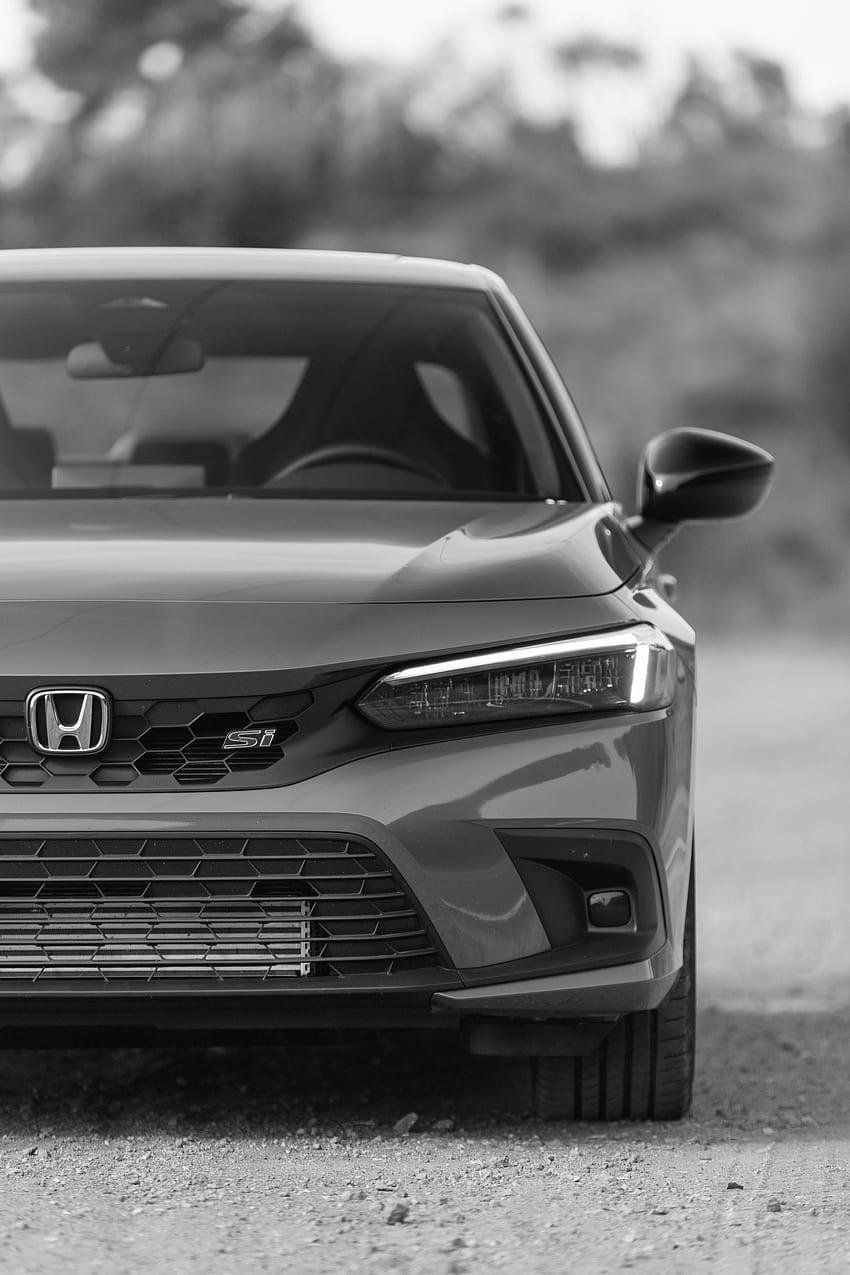Car hood: (0, 480, 642, 685)
Front bumper: (2, 733, 721, 1027)
Headlight - -L-: (305, 624, 690, 744)
Side mirror - -L-: (616, 428, 781, 565)
